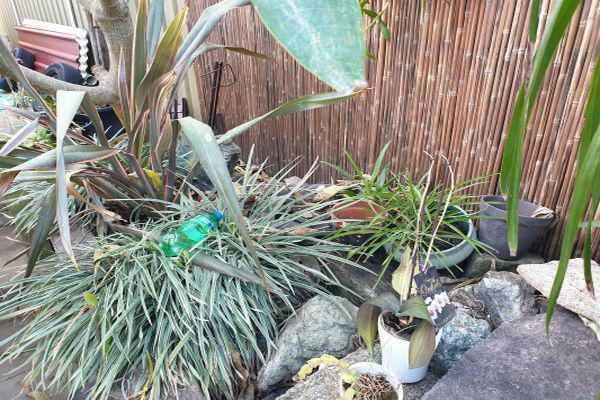Plastic Bottle: (159, 211, 223, 256)
